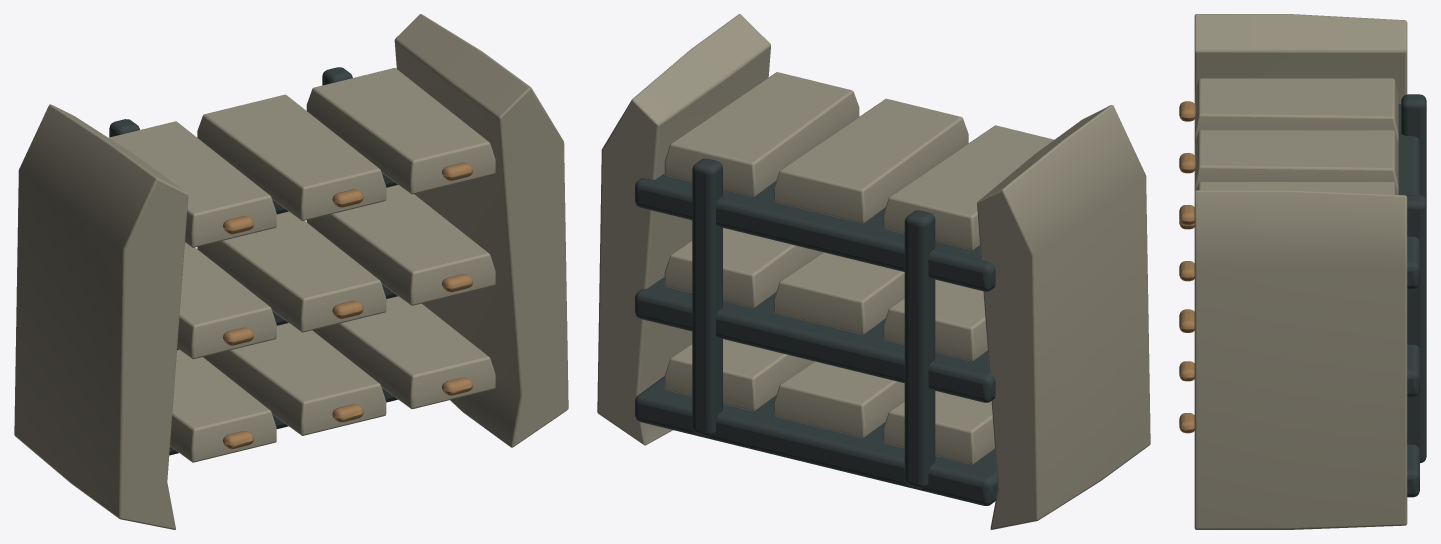
File: dormant_machine_rack_lod0.glb
3 renders of one model, left to right at view 1: azimuth 30°, elevation 25°; view 2: azimuth 150°, elevation 25°; view 3: azimuth 270°, elevation 25°, orthographic. The views are drawn at different scales.
Visible parts, largest first — view 1: LOD0_ancient, LOD0_vein, LOD0_substrate; view 2: LOD0_ancient, LOD0_substrate; view 3: LOD0_ancient, LOD0_substrate, LOD0_vein.
Part boxes in pixels (box(x1,y1,x2,y2)): LOD0_ancient: box(14, 14, 568, 529); LOD0_vein: box(223, 162, 472, 448); LOD0_substrate: box(109, 67, 397, 455); LOD0_ancient: box(597, 14, 1150, 529); LOD0_substrate: box(635, 158, 997, 505); LOD0_ancient: box(1194, 14, 1407, 529); LOD0_substrate: box(1398, 94, 1426, 497); LOD0_vein: box(1179, 101, 1195, 433).
Size of the model in its own units: 2.96 by 2.24 by 1.45.
